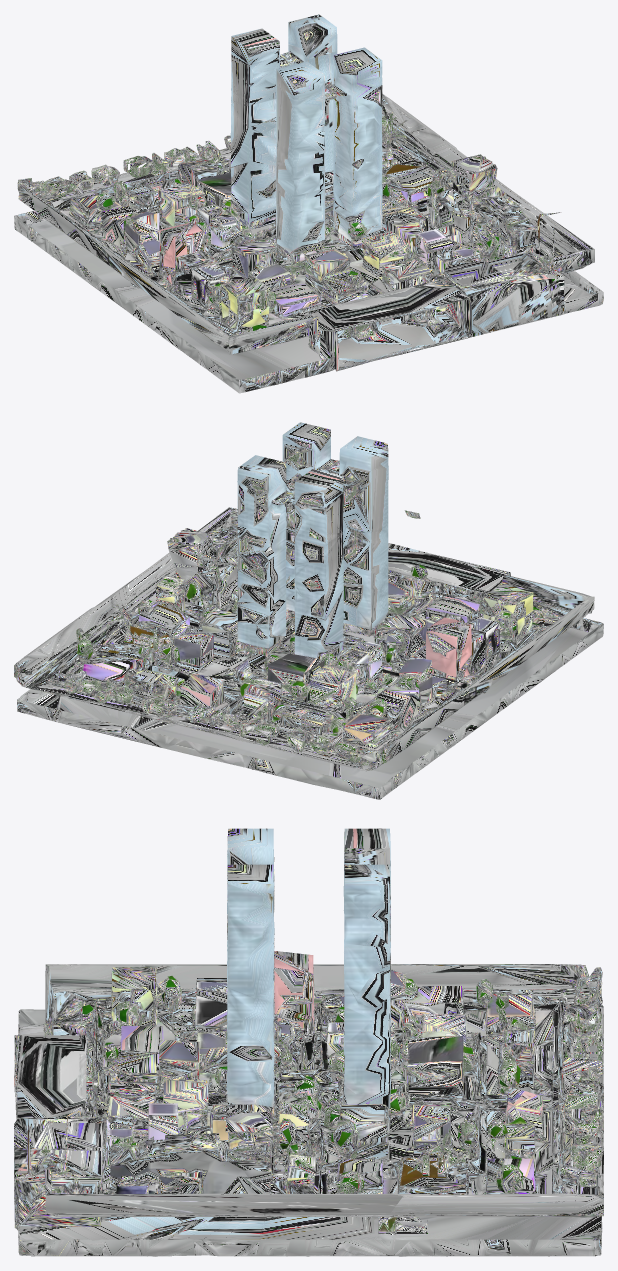
File: mx_dr_dio_towers.glb
The picture shows the model from 3 angles, top to bottom: view 1: azimuth 30°, elevation 25°; view 2: azimuth 150°, elevation 25°; view 3: azimuth 270°, elevation 25°; orthographic projection. The views are drawn at different scales.
Parts seen in each view (by area): view 1: Mesh_0; view 2: Mesh_0; view 3: Mesh_0.
Boxes of the visible parts, left/top/right/bottom form: Mesh_0: left=14, top=14, right=603, bottom=393; Mesh_0: left=14, top=422, right=603, bottom=799; Mesh_0: left=14, top=828, right=603, bottom=1256.
Bounding box in the file's own units: 1.76 × 1.01 × 1.9.
Materials: 1 (1 with a texture image).
